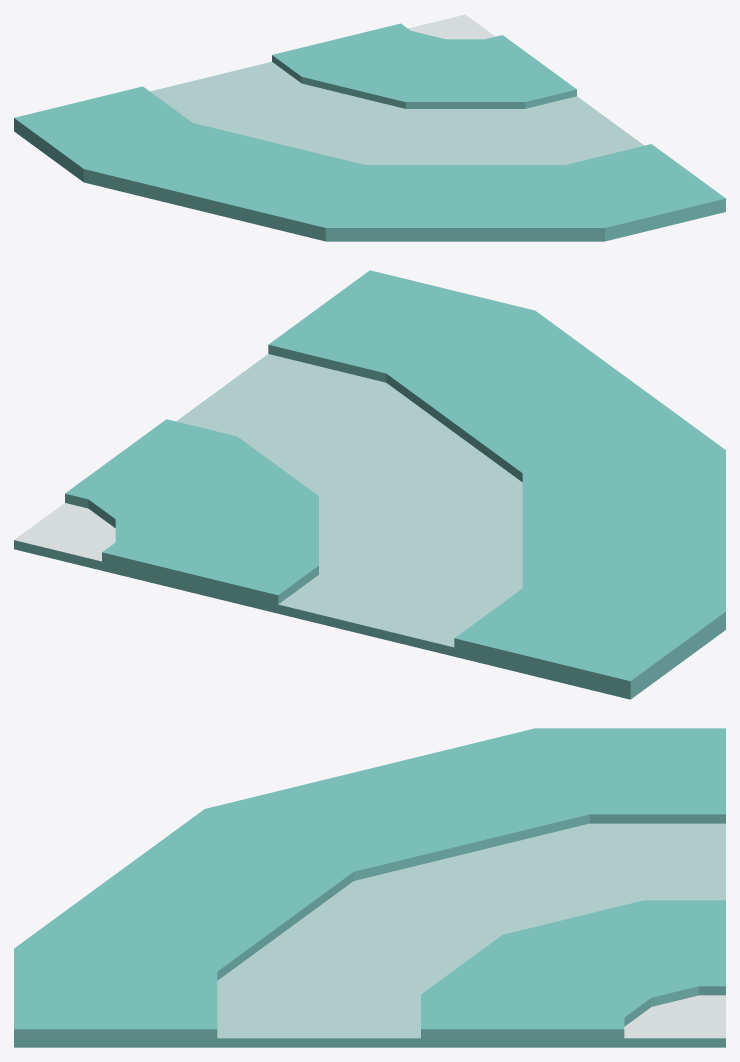
File: Prop_Rug_Corner_Outer.glb
3 views of the same model, one above another, from view 1: azimuth 30°, elevation 25°; view 2: azimuth 150°, elevation 25°; view 3: azimuth 270°, elevation 25° (orthographic). The views are drawn at different scales.
Parts seen in each view (by area): view 1: Prop_Rug_Corner_Outer; view 2: Prop_Rug_Corner_Outer; view 3: Prop_Rug_Corner_Outer.
Part boxes in pixels (x1,y1,x2,y2): Prop_Rug_Corner_Outer: (14, 14, 725, 241); Prop_Rug_Corner_Outer: (14, 270, 725, 699); Prop_Rug_Corner_Outer: (14, 728, 725, 1047).
Bounding box in the file's own units: 0.35 × 0.01 × 0.35.
